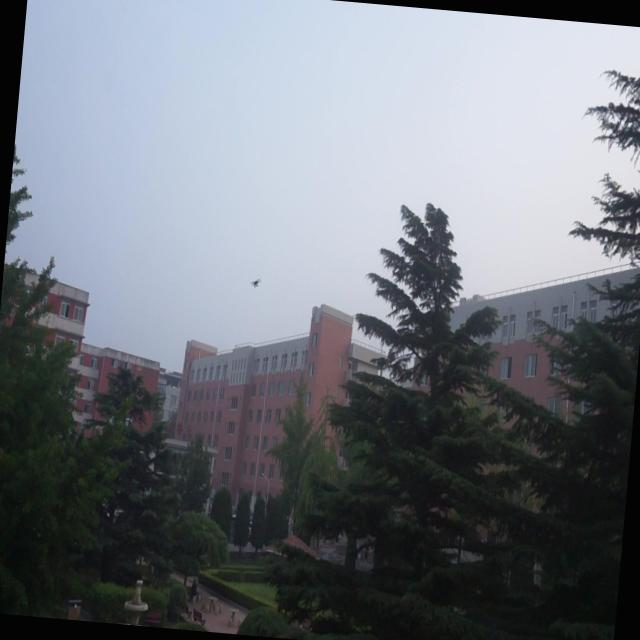drone: (248, 274, 264, 287)
